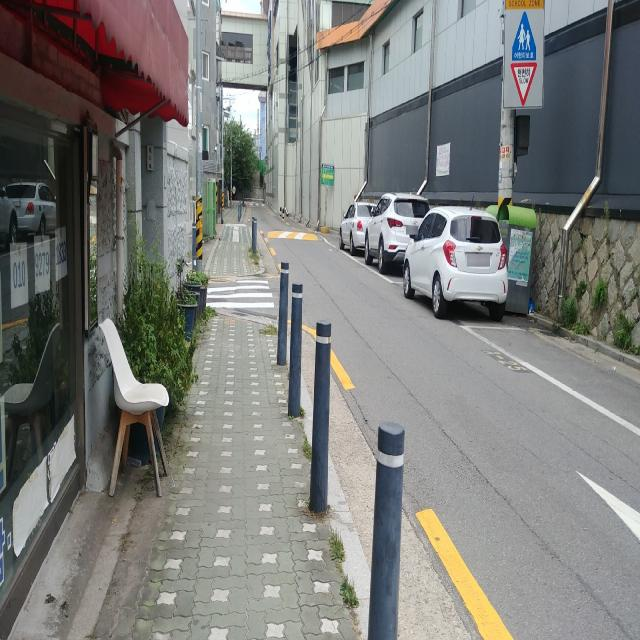횡단보도: (206, 279, 274, 309)
